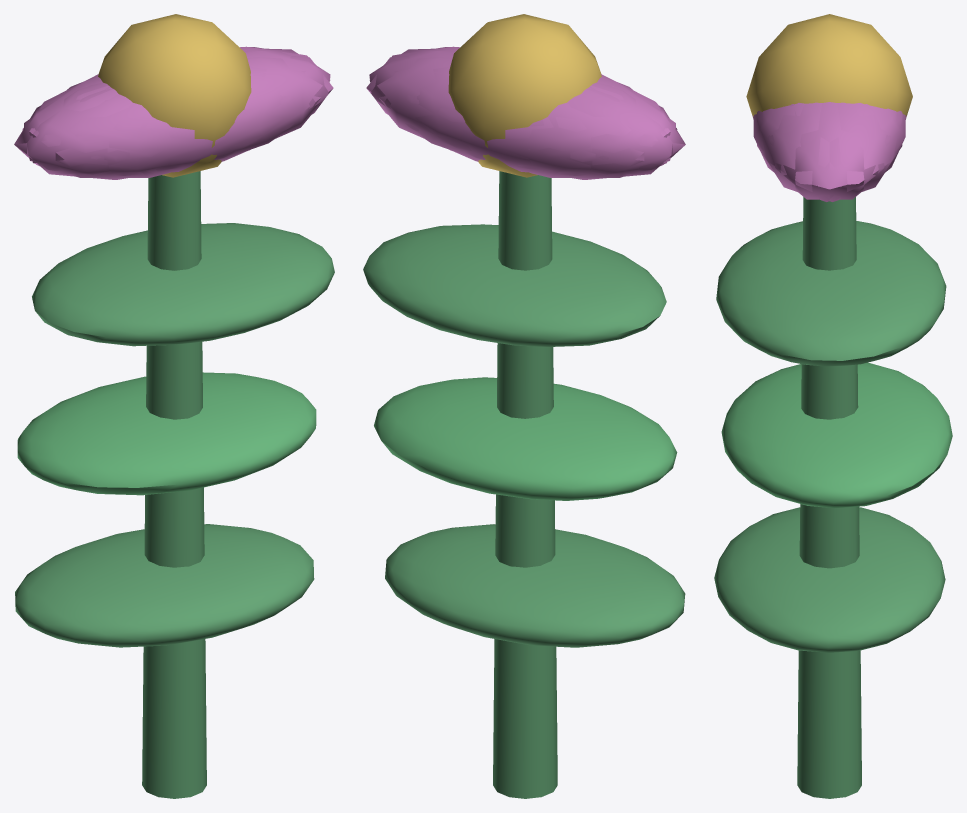
The model's file is excoecaria-agallocha.glb.
3 views of the same model, side by side, from view 1: azimuth 30°, elevation 25°; view 2: azimuth 150°, elevation 25°; view 3: azimuth 270°, elevation 25° (orthographic).
Visible parts, largest first — view 1: leaf2, leaf0, leaf1, stem, center, petal6, petal2, petal1, petal5, petal7, petal0; view 2: leaf1, leaf2, leaf0, stem, center, petal3, petal7, petal8, petal4, petal2, petal0; view 3: leaf2, leaf1, leaf0, stem, center, petal0, petal4, petal5, petal1, petal8.
Boxes of the visible parts, left/top/right/bottom form: leaf2: left=32, top=223, right=334, bottom=346; leaf0: left=15, top=524, right=314, bottom=647; leaf1: left=17, top=372, right=316, bottom=495; stem: left=142, top=171, right=206, bottom=798; center: left=98, top=14, right=251, bottom=177; petal6: left=32, top=88, right=236, bottom=177; petal2: left=24, top=82, right=181, bottom=179; petal1: left=104, top=66, right=315, bottom=176; petal5: left=169, top=56, right=333, bottom=167; petal7: left=14, top=77, right=118, bottom=170; petal0: left=244, top=48, right=330, bottom=150; leaf1: left=374, top=377, right=677, bottom=500; leaf2: left=363, top=224, right=666, bottom=346; leaf0: left=385, top=524, right=685, bottom=647; stem: left=493, top=171, right=557, bottom=798; center: left=448, top=14, right=601, bottom=177; petal3: left=463, top=88, right=667, bottom=177; petal7: left=518, top=82, right=675, bottom=179; petal8: left=384, top=66, right=595, bottom=176; petal4: left=366, top=56, right=530, bottom=167; petal2: left=581, top=77, right=685, bottom=170; petal0: left=369, top=48, right=455, bottom=150; leaf2: left=716, top=221, right=946, bottom=366; leaf1: left=721, top=362, right=952, bottom=508; leaf0: left=714, top=507, right=945, bottom=652; stem: left=797, top=197, right=861, bottom=798; center: left=746, top=14, right=912, bottom=116; petal0: left=768, top=102, right=890, bottom=199; petal4: left=817, top=102, right=902, bottom=201; petal5: left=757, top=102, right=842, bottom=201; petal1: left=753, top=103, right=805, bottom=172; petal8: left=854, top=103, right=905, bottom=173.
Size of the model in its own units: 0.1541 by 0.3644 by 0.1031.
